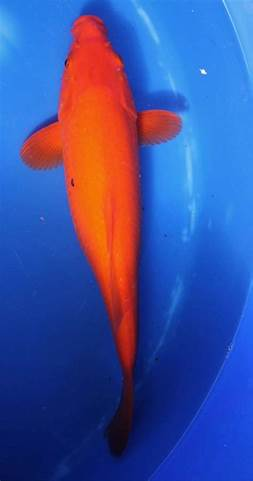red: (22, 14, 182, 460)
